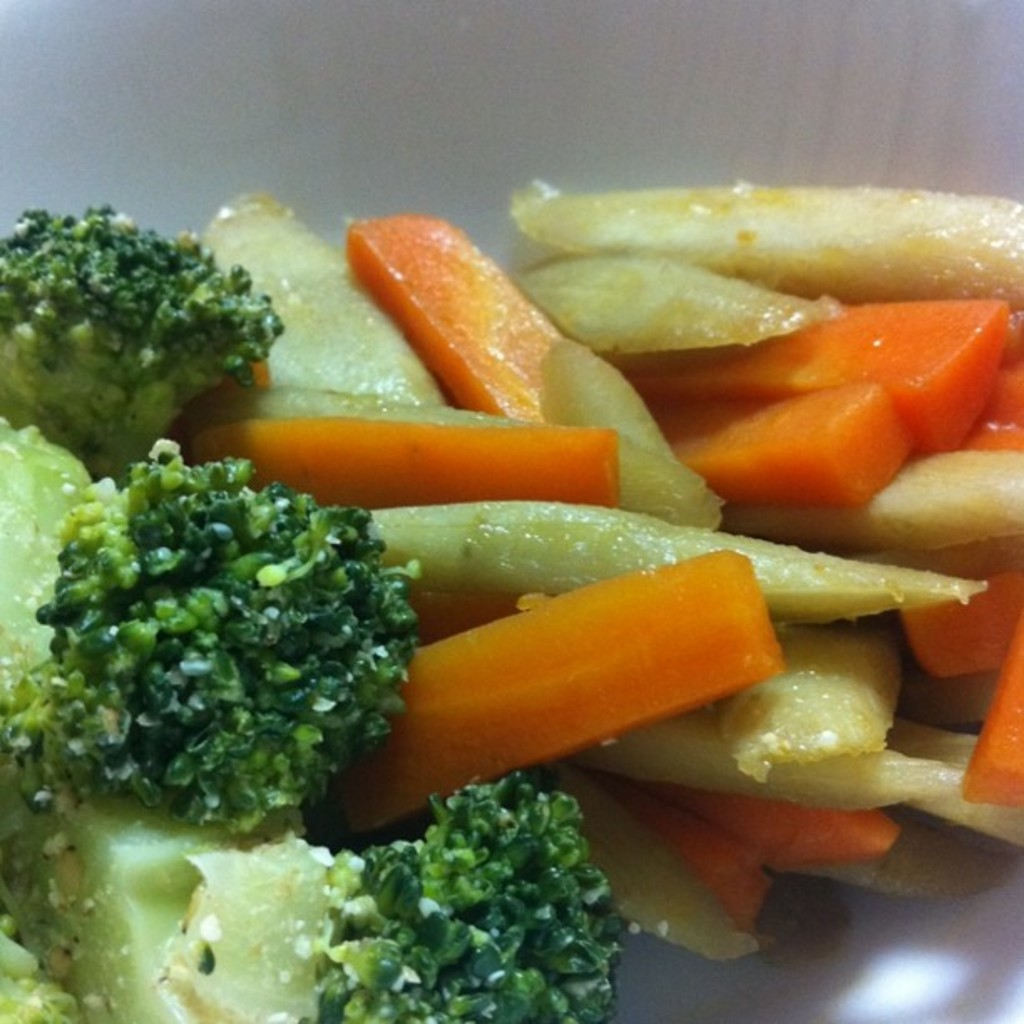Carrot: (180, 219, 1022, 910), (336, 543, 793, 831)
